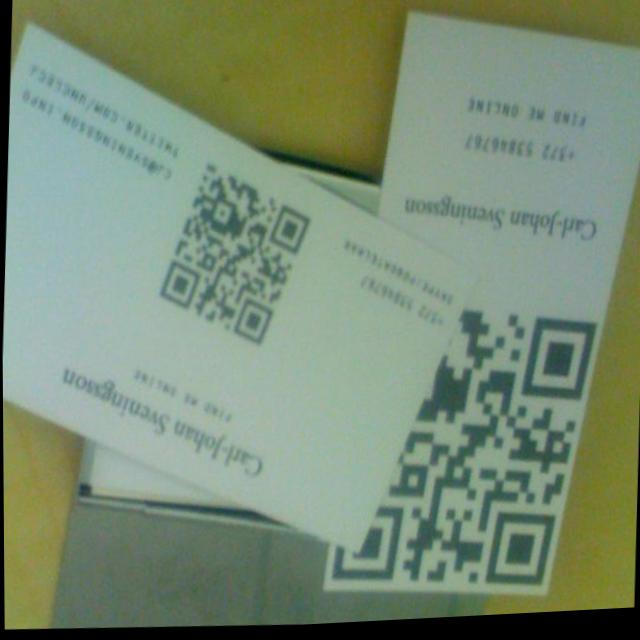qrcode: (329, 304, 599, 601), (157, 159, 313, 355)
